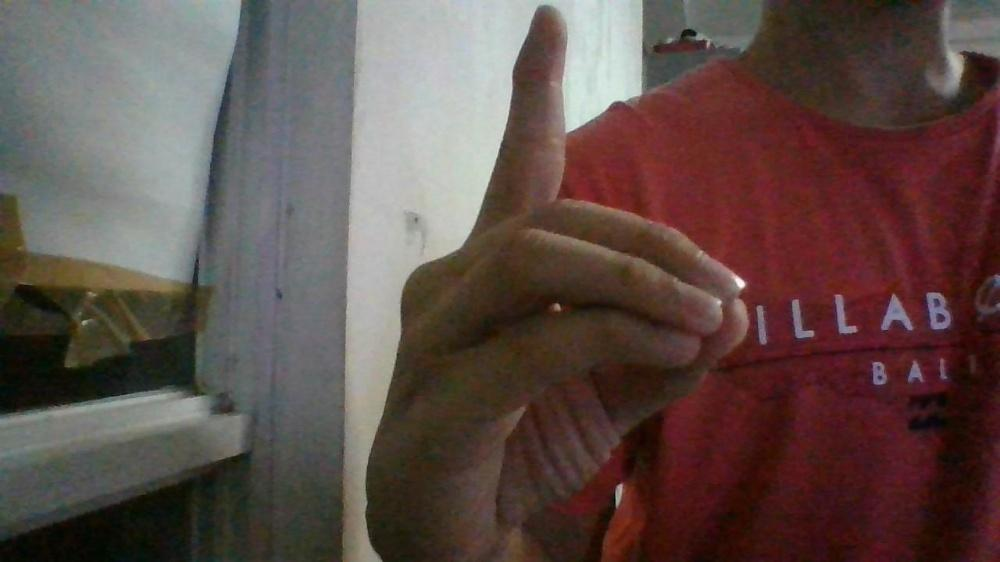d: (360, 4, 753, 536)
